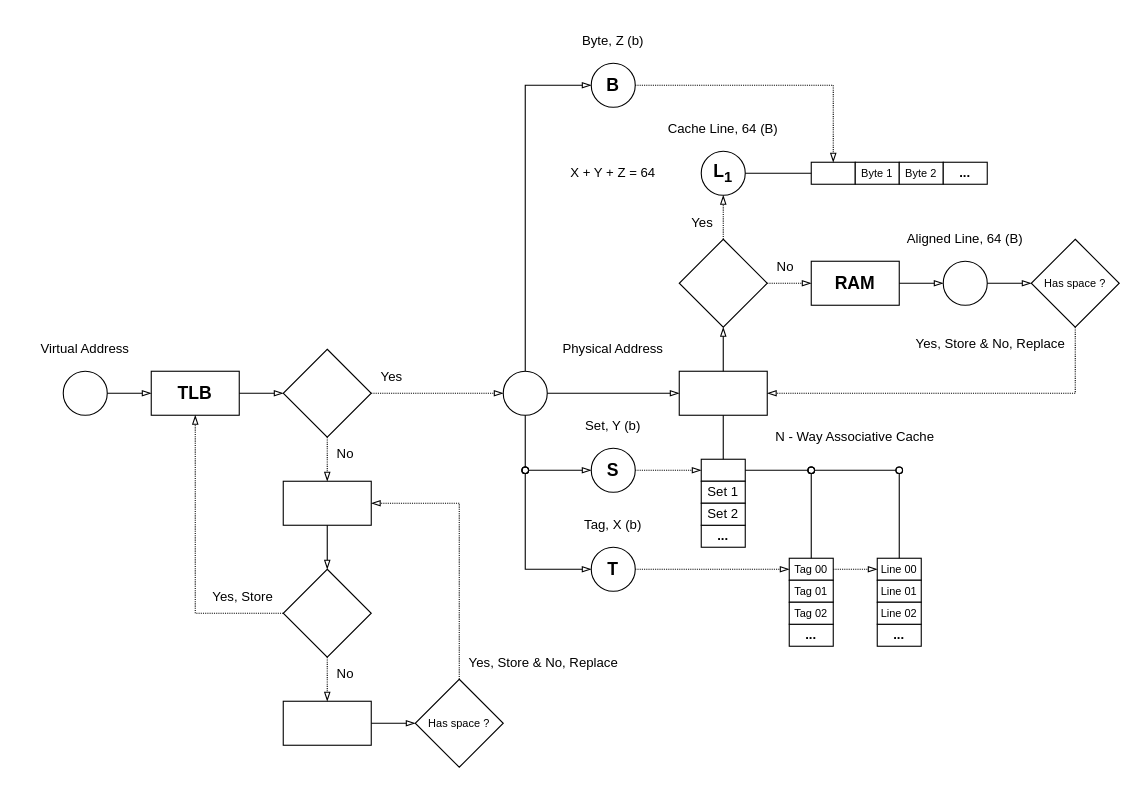
The diagram is 1139 pixels wide and 787 high, and some of its shapes have lost their labels. The centre of each missing label's shape, as x and y in pixels:
A 1: pixel 84 392
A 2: pixel 524 392
Byte 0: pixel 832 172
Cache (L1, L2, L3): pixel 722 392
Disk (SSD, HDD): pixel 326 722
Has entry ?: pixel 326 392
Has line ?: pixel 722 282
Has page ?: pixel 326 612
L 2: pixel 964 282
Page Table (main memory): pixel 326 502
Set 0: pixel 722 469
